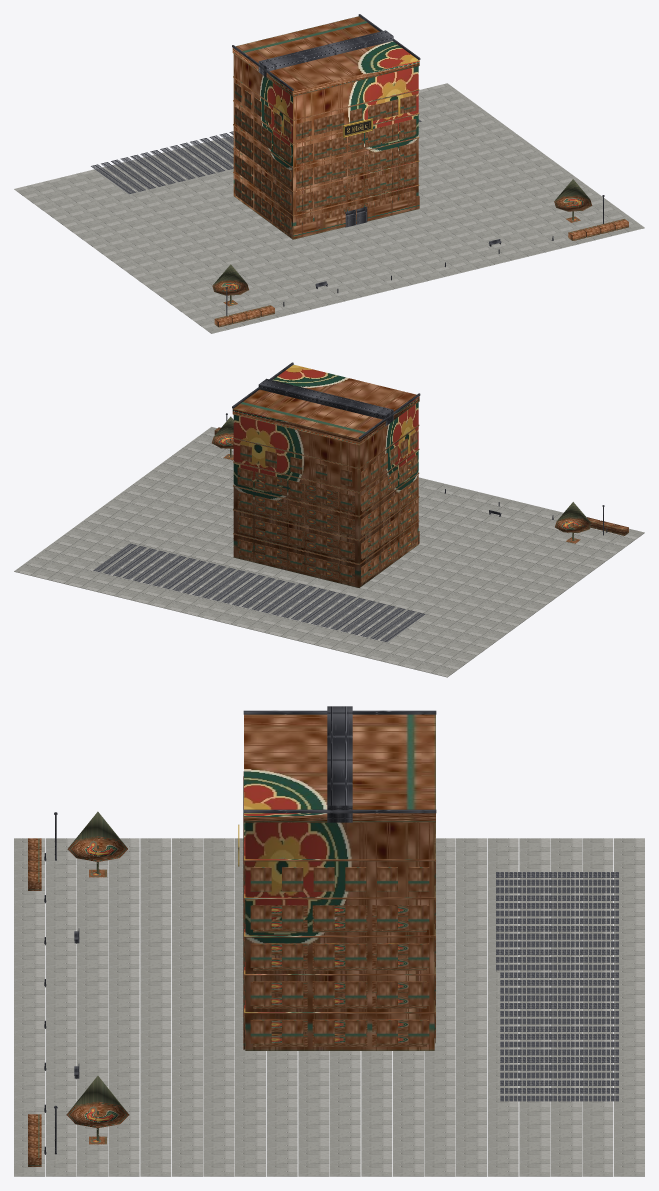
The picture shows the model from 3 angles, top to bottom: view 1: azimuth 30°, elevation 25°; view 2: azimuth 150°, elevation 25°; view 3: azimuth 270°, elevation 25°; orthographic projection. The views are drawn at different scales.
Visible parts, largest first — view 1: 11680_01_06126_016_01__plinth_ground_base, 11680_01_06126_016_02__mass_body_facade, 11680_01_06126_016_05__window_sash_glass, 11680_01_06126_016_03__roof_deck_structure, 11680_01_06126_016_06__landscape_greenery, 11680_01_06126_016_03__roof_metal_ornament, 11680_01_06126_016_05__door_hardware_iron; view 2: 11680_01_06126_016_01__plinth_ground_base, 11680_01_06126_016_02__mass_body_facade, 11680_01_06126_016_03__roof_deck_structure, 11680_01_06126_016_03__roof_metal_ornament, 11680_01_06126_016_06__landscape_greenery; view 3: 11680_01_06126_016_01__plinth_ground_base, 11680_01_06126_016_02__mass_body_facade, 11680_01_06126_016_03__roof_deck_structure, 11680_01_06126_016_06__landscape_greenery, 11680_01_06126_016_03__roof_metal_ornament.
Boxes of the visible parts, <box> form: 11680_01_06126_016_01__plinth_ground_base: <box>14,83,644,333</box>; 11680_01_06126_016_02__mass_body_facade: <box>232,16,419,239</box>; 11680_01_06126_016_05__window_sash_glass: <box>296,95,416,233</box>; 11680_01_06126_016_03__roof_deck_structure: <box>91,119,421,194</box>; 11680_01_06126_016_06__landscape_greenery: <box>212,179,628,327</box>; 11680_01_06126_016_03__roof_metal_ornament: <box>232,14,420,90</box>; 11680_01_06126_016_05__door_hardware_iron: <box>225,195,604,315</box>; 11680_01_06126_016_01__plinth_ground_base: <box>14,427,644,677</box>; 11680_01_06126_016_02__mass_body_facade: <box>232,364,419,587</box>; 11680_01_06126_016_03__roof_deck_structure: <box>93,543,425,642</box>; 11680_01_06126_016_03__roof_metal_ornament: <box>232,362,420,439</box>; 11680_01_06126_016_06__landscape_greenery: <box>212,416,628,543</box>; 11680_01_06126_016_01__plinth_ground_base: <box>14,838,644,1176</box>; 11680_01_06126_016_02__mass_body_facade: <box>243,714,435,1050</box>; 11680_01_06126_016_03__roof_deck_structure: <box>496,872,618,1101</box>; 11680_01_06126_016_06__landscape_greenery: <box>28,811,129,1166</box>; 11680_01_06126_016_03__roof_metal_ornament: <box>243,706,436,822</box>.
Bounding box in the file's own units: 75.95 × 26.4 × 59.95.
7 materials, 7 textured.
